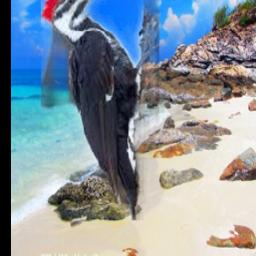Woodpecker: (40, 0, 158, 220)
